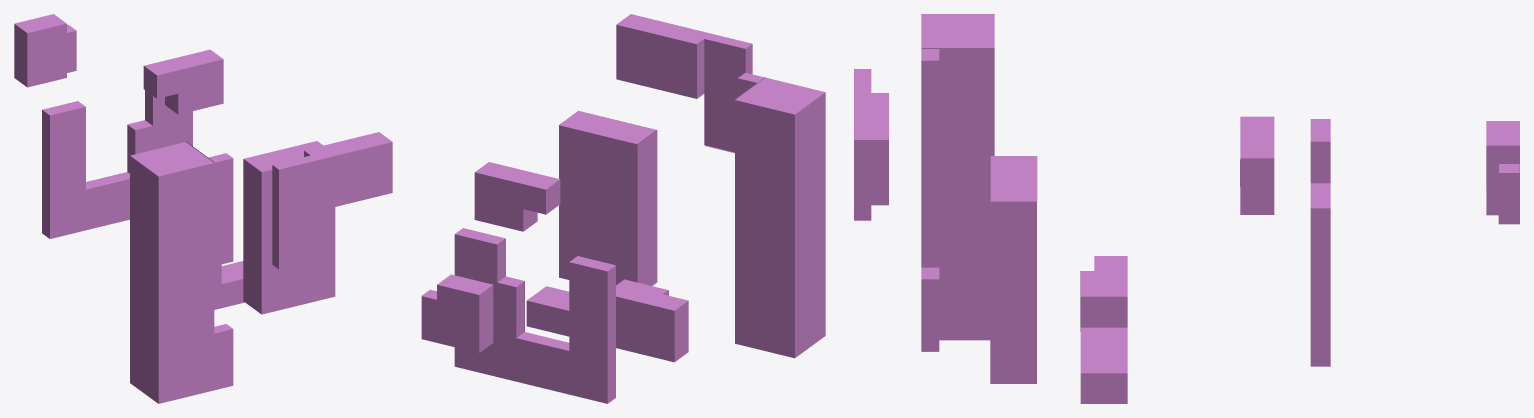
File: Puzzle 2 Structure.fbx
3 views of the same model, side by side, from view 1: azimuth 30°, elevation 25°; view 2: azimuth 150°, elevation 25°; view 3: azimuth 270°, elevation 25° (orthographic). The views are drawn at different scales.
Visible parts, largest first — view 1: Piece6, Piece3, Piece5, Piece4, Piece1, Piece2, pPlane12, Piece7, pPlane25, pPlane4, pPlane14; view 2: Piece6, Piece5, Piece4, Piece7, Piece2, pPlane8, Piece1, pPlane9, Piece3, pPlane12, pPlane25, pPlane15 (+2 smaller); view 3: pPlane18, Piece4, Piece3, Piece5, Piece1, Piece7, Piece6, pPlane20, pPlane25, pPlane12, Piece2, pPlane26 (+3 smaller).
Boxes of the visible parts, x1=… form: Piece6: x1=130, y1=142, x2=233, y2=403; Piece3: x1=272, y1=132, x2=392, y2=269; Piece5: x1=42, y1=96, x2=192, y2=238; Piece4: x1=243, y1=141, x2=335, y2=314; Piece1: x1=143, y1=49, x2=223, y2=114; Piece2: x1=14, y1=14, x2=66, y2=87; pPlane12: x1=244, y1=141, x2=322, y2=171; Piece7: x1=214, y1=264, x2=244, y2=309; pPlane25: x1=221, y1=261, x2=243, y2=283; pPlane4: x1=67, y1=30, x2=76, y2=72; pPlane14: x1=86, y1=172, x2=129, y2=189; Piece6: x1=735, y1=72, x2=825, y2=358; Piece5: x1=454, y1=228, x2=615, y2=403; Piece4: x1=559, y1=111, x2=657, y2=285; Piece7: x1=526, y1=279, x2=688, y2=362; Piece2: x1=421, y1=274, x2=493, y2=352; pPlane8: x1=616, y1=25, x2=696, y2=98; Piece1: x1=474, y1=162, x2=560, y2=231; pPlane9: x1=704, y1=39, x2=745, y2=152; Piece3: x1=616, y1=14, x2=752, y2=153; pPlane12: x1=559, y1=111, x2=656, y2=143; pPlane25: x1=527, y1=286, x2=569, y2=310; pPlane15: x1=516, y1=281, x2=524, y2=337; pPlane18: x1=921, y1=48, x2=994, y2=340; Piece4: x1=990, y1=156, x2=1036, y2=383; Piece3: x1=854, y1=69, x2=888, y2=220; Piece5: x1=1310, y1=119, x2=1330, y2=366; Piece1: x1=1240, y1=116, x2=1274, y2=214; Piece7: x1=1080, y1=256, x2=1127, y2=403; Piece6: x1=921, y1=14, x2=994, y2=351; pPlane20: x1=921, y1=61, x2=939, y2=192; pPlane25: x1=1080, y1=327, x2=1127, y2=373; pPlane12: x1=990, y1=156, x2=1037, y2=201; Piece2: x1=1486, y1=121, x2=1519, y2=224; pPlane26: x1=1080, y1=297, x2=1127, y2=327.
Size of the model in its own units: 4.2 by 4.45 by 9.09.
